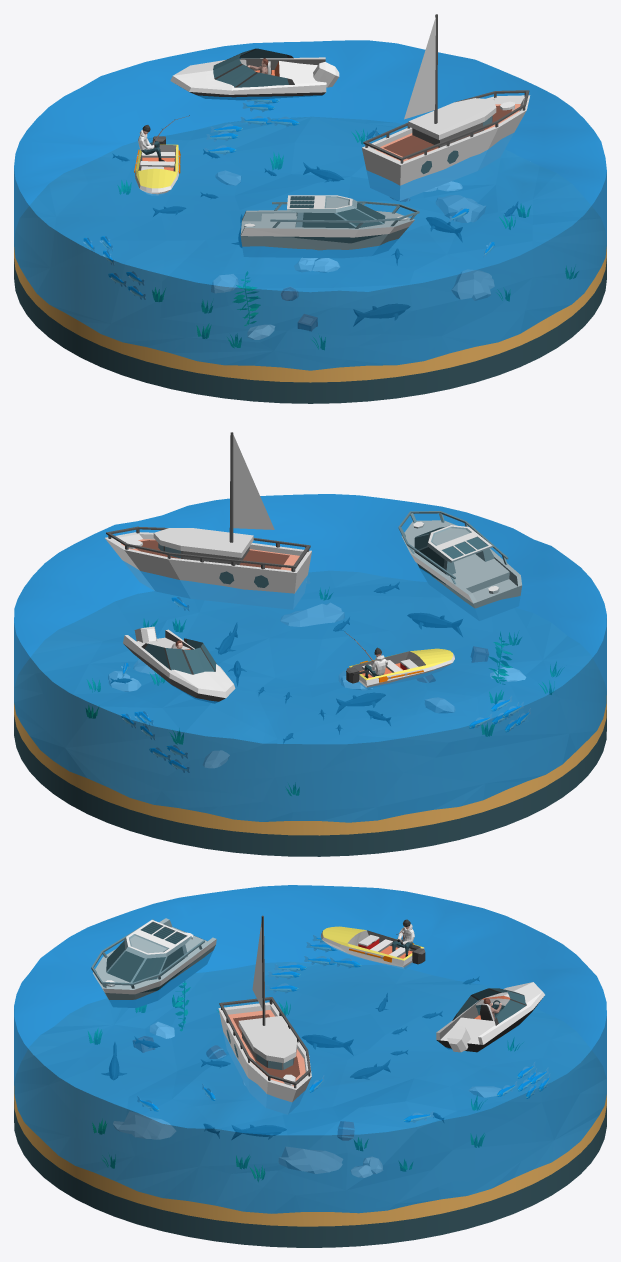
File: land_45.fbx
3 views of the same model, one above another, from view 1: azimuth 30°, elevation 25°; view 2: azimuth 150°, elevation 25°; view 3: azimuth 270°, elevation 25° (orthographic).
Visible parts, largest first — view 1: land_11.095, land_11.093, land_11.094, land_45.019, land_45.018, pCube221, land_45.020, land_84.273, land_84.262, land_84.287; view 2: land_11.095, land_11.093, land_45.019, land_11.094, land_45.018, pCube221, land_45.020, land_84.273, land_84.287; view 3: land_11.095, land_11.093, land_11.094, land_45.019, land_45.018, pCube221, land_45.020, land_84.262, land_84.273.
Boxes of the visible parts, left/top/right/bottom form: land_11.095: left=14, top=40, right=606, bottom=370; land_11.093: left=14, top=117, right=606, bottom=382; land_11.094: left=14, top=258, right=606, bottom=403; land_45.019: left=362, top=14, right=530, bottom=200; land_45.018: left=240, top=195, right=419, bottom=257; pCube221: left=170, top=48, right=339, bottom=99; land_45.020: left=134, top=136, right=180, bottom=195; land_84.273: left=451, top=269, right=494, bottom=300; land_84.262: left=435, top=195, right=485, bottom=222; land_84.287: left=353, top=304, right=410, bottom=326; land_11.095: left=14, top=494, right=606, bottom=822; land_11.093: left=14, top=571, right=606, bottom=835; land_45.019: left=105, top=432, right=311, bottom=609; land_11.094: left=14, top=710, right=606, bottom=856; land_45.018: left=398, top=511, right=522, bottom=620; pCube221: left=123, top=626, right=235, bottom=703; land_45.020: left=346, top=648, right=454, bottom=688; land_84.273: left=280, top=603, right=344, bottom=626; land_84.287: left=407, top=613, right=462, bottom=636; land_11.095: left=14, top=885, right=606, bottom=1213; land_11.093: left=14, top=962, right=606, bottom=1226; land_11.094: left=14, top=1100, right=606, bottom=1247; land_45.019: left=218, top=915, right=311, bottom=1114; land_45.018: left=91, top=918, right=216, bottom=1007; pCube221: left=436, top=982, right=544, bottom=1052; land_45.020: left=321, top=926, right=425, bottom=969; land_84.262: left=278, top=1147, right=342, bottom=1173; land_84.273: left=113, top=1111, right=175, bottom=1139.
Bounding box in the file's own units: 19.99 × 9.54 × 19.99.
